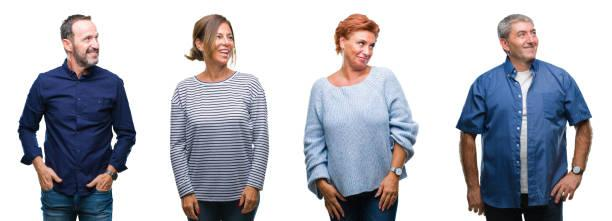long sleeve shirt: (16, 58, 138, 197), (169, 70, 271, 200)
short sleeve shirt: (455, 54, 593, 208)
sweater: (301, 64, 419, 197)
trousers: (39, 182, 113, 221), (327, 187, 399, 221), (483, 192, 564, 221), (184, 192, 261, 221)
